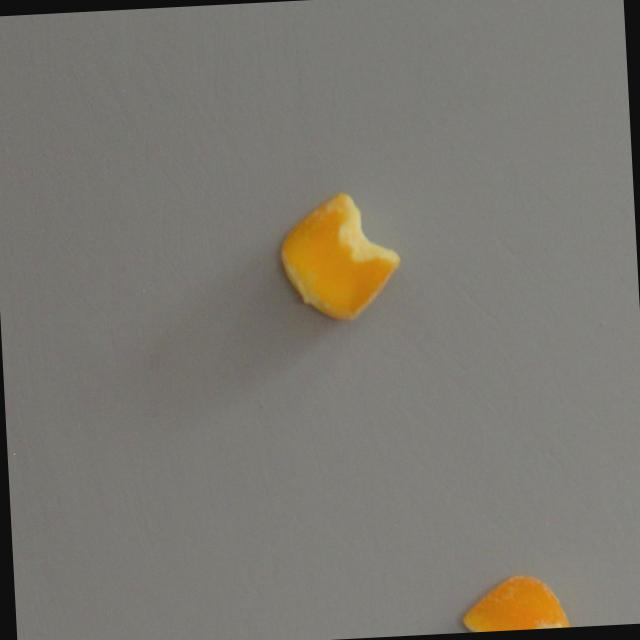pelicula: (272, 190, 406, 331), (452, 565, 585, 633)
